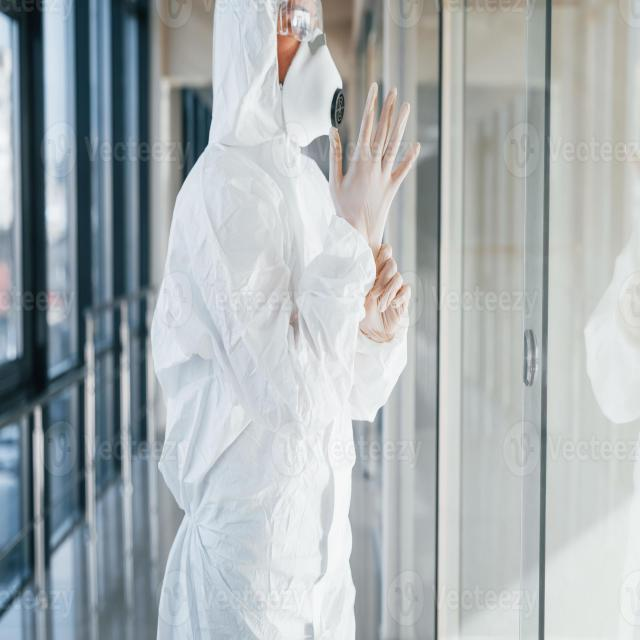Gloves: (324, 86, 417, 238), (357, 239, 413, 355)
